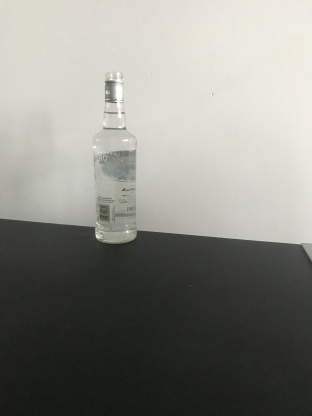nakretka: (102, 68, 126, 105)
